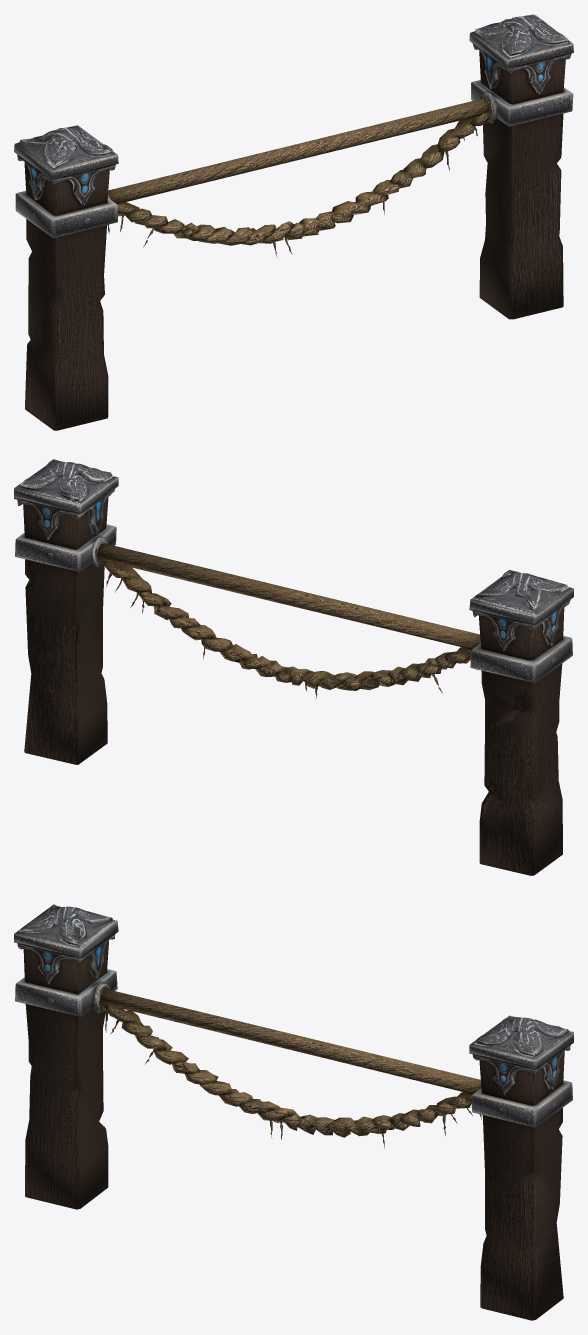
File: tripo_convert_19036be9-b920-47cd-9195-fdb45b801a91.fbx
3 views of the same model, one above another, from view 1: azimuth 30°, elevation 25°; view 2: azimuth 150°, elevation 25°; view 3: azimuth 330°, elevation 25° (orthographic).
Parts seen in each view (by area): view 1: tripo_node_19036be9; view 2: tripo_node_19036be9; view 3: tripo_node_19036be9.
Boxes of the visible parts, box(x1,y1,x2,y2) form: tripo_node_19036be9: box(14, 14, 573, 430); tripo_node_19036be9: box(14, 459, 573, 875); tripo_node_19036be9: box(14, 904, 573, 1320).
Bounding box in the file's own units: 0.998 × 0.5215 × 0.127.
Materials: 1 (1 with a texture image).
